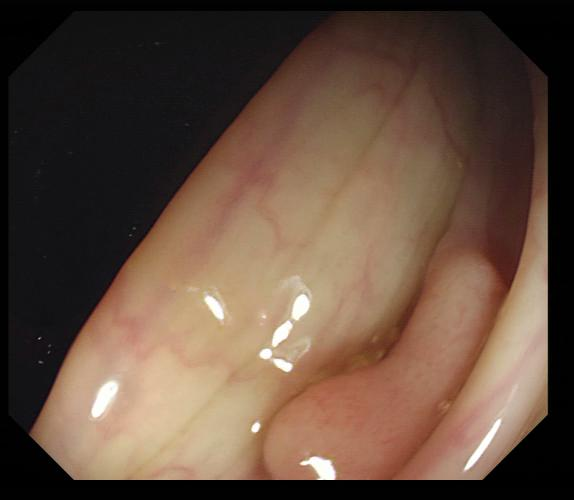polyp: (262, 254, 505, 478)
